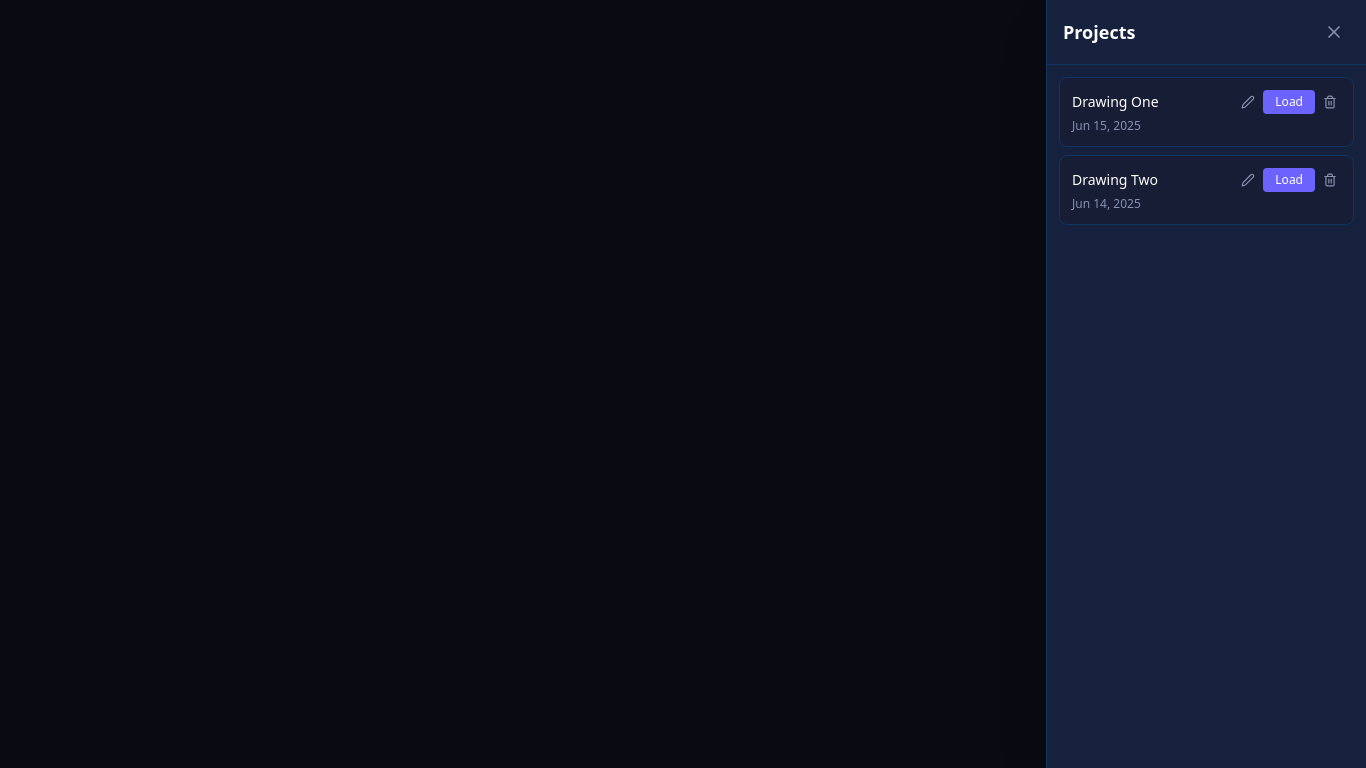
it: ProjectListSidebar › pressing Escape cancels the inline rename
Check: the heading "Drawing One" is shown, box [1072,92,1159,111]
# Enter rename mode
Click the button named "Rename Drawing One" at x=1248, y=102, box [1237,91,1259,113]
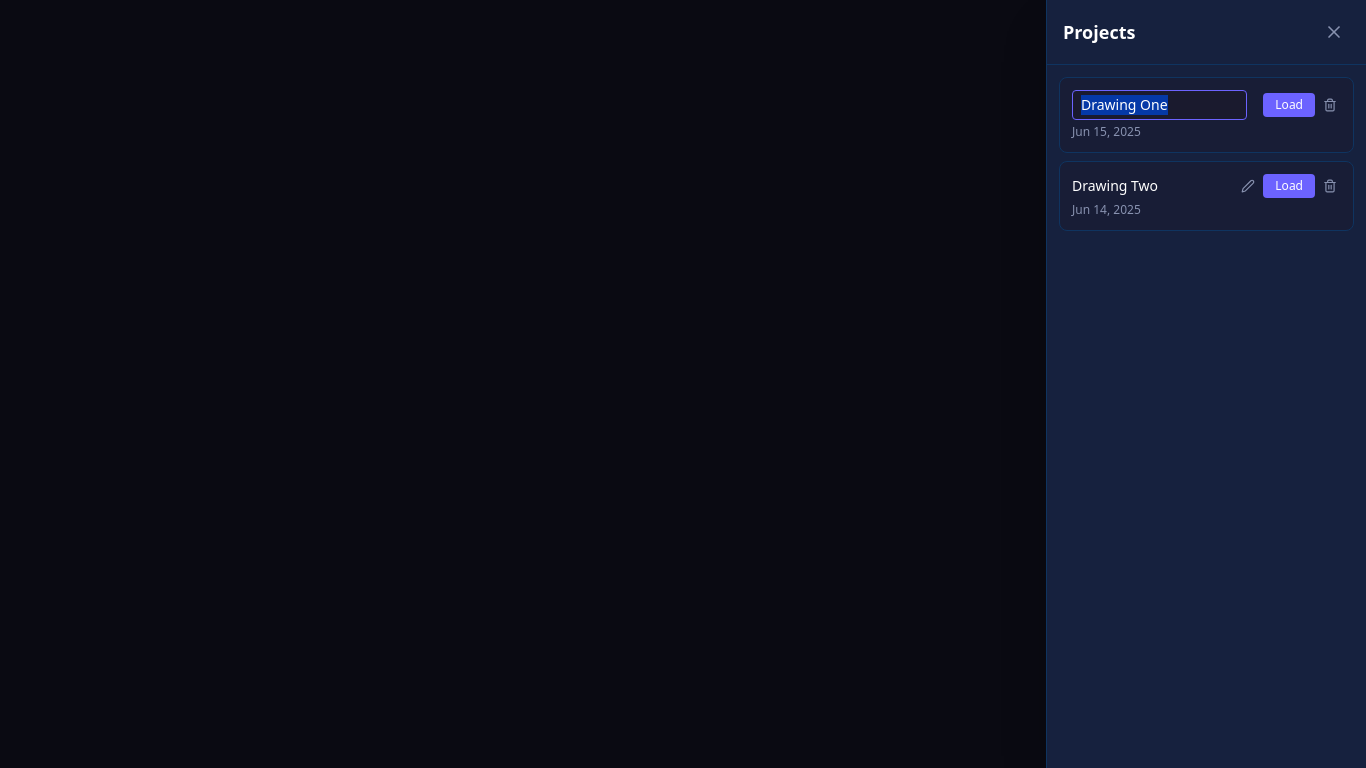
Replace the text in the field with test id "rename-input-1" with "Changed Name" at x=1160, y=105, box [1072,90,1247,120]
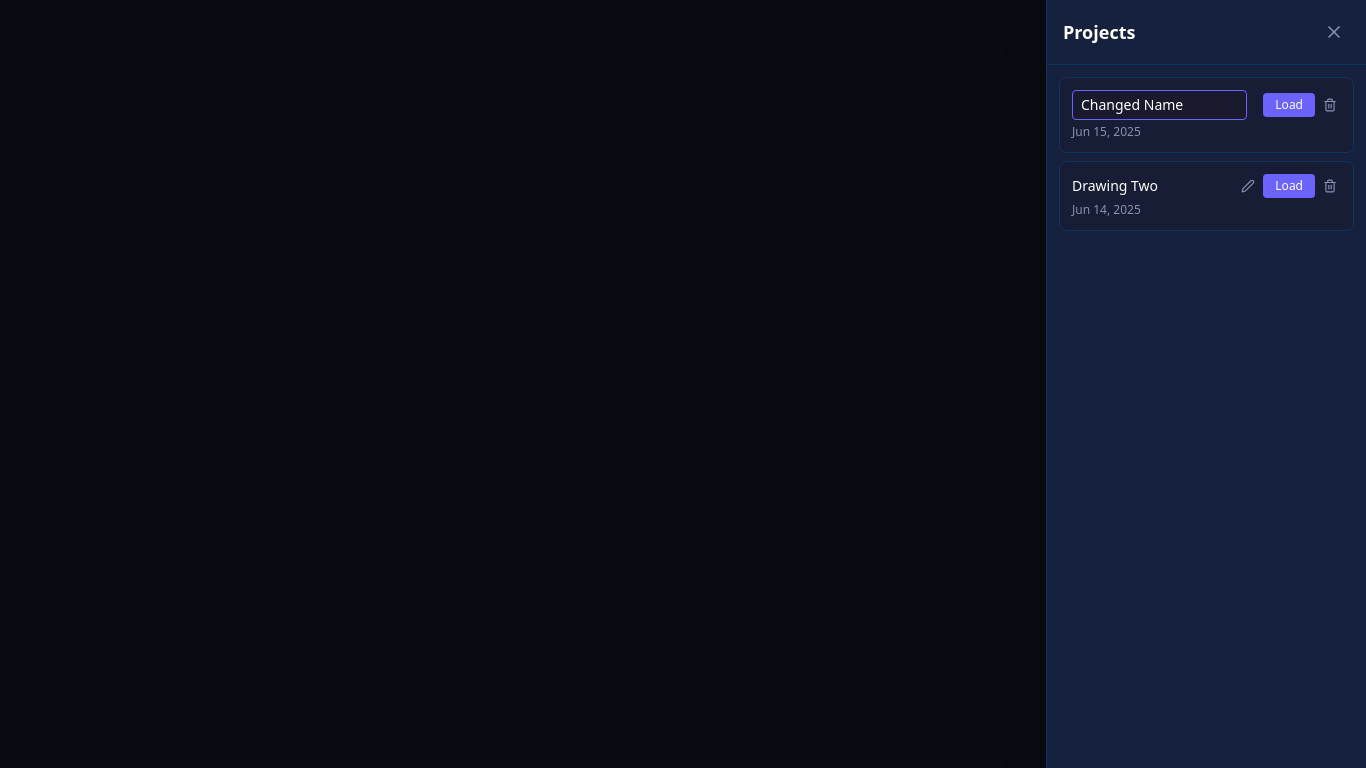
# Press Escape
Press Escape
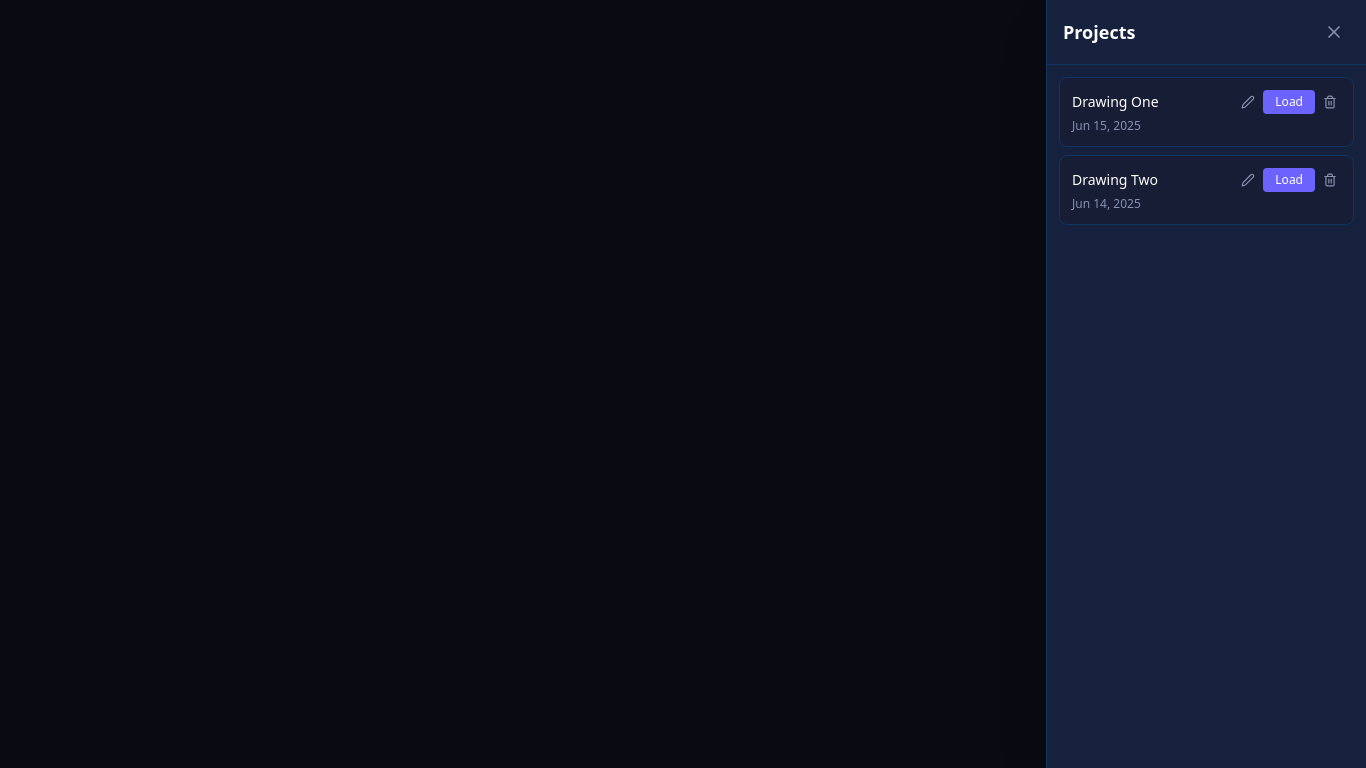
Check: the field with test id "rename-input-1" is gone
Check: the heading "Drawing One" is shown, box [1072,92,1159,111]
